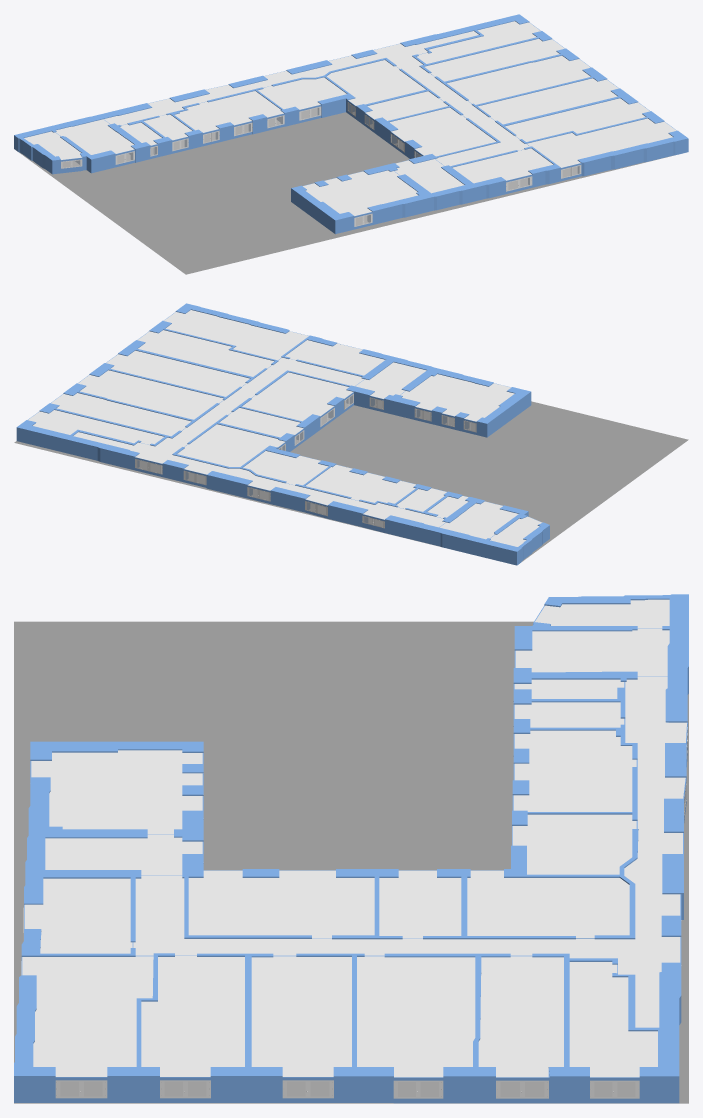
Rendered from 5thfloor.obj.
3 views of the same model, one above another, from view 1: azimuth 30°, elevation 25°; view 2: azimuth 150°, elevation 25°; view 3: azimuth 270°, elevation 25° (orthographic). The views are drawn at different scales.
Visible parts, largest first — view 1: ground_1, room_421_2503, room_432_2525, room_428_2517, room_452_2547, room_427_2515, room_431_2523, room_430_2521, room_424_2509, room_423_2507, room_420_2501, room_422_2505 (+22 smaller); view 2: ground_1, room_421_2503, room_432_2525, room_428_2517, room_452_2547, room_427_2515, room_431_2523, room_430_2521, room_424_2509, room_423_2507, room_420_2501, room_422_2505 (+30 smaller); view 3: ground_1, room_421_2503, room_432_2525, room_428_2517, room_452_2547, room_427_2515, room_431_2523, room_430_2521, room_423_2507, room_424_2509, room_420_2501, room_422_2505 (+38 smaller).
Part boxes in pixels (x1,y1,x2,y2): ground_1: [19, 112, 674, 274]; room_421_2503: [104, 31, 529, 166]; room_432_2525: [447, 56, 590, 104]; room_428_2517: [527, 118, 676, 167]; room_452_2547: [303, 170, 417, 215]; room_427_2515: [389, 107, 496, 156]; room_431_2523: [478, 78, 618, 124]; room_430_2521: [505, 98, 649, 141]; room_424_2509: [327, 60, 425, 105]; room_423_2507: [424, 39, 564, 81]; room_420_2501: [174, 91, 283, 132]; room_422_2505: [417, 21, 540, 63]; ground_1: [14, 401, 688, 561]; room_421_2503: [73, 357, 445, 527]; room_432_2525: [78, 370, 223, 419]; room_428_2517: [164, 310, 308, 360]; room_452_2547: [400, 374, 514, 421]; room_427_2515: [242, 372, 352, 421]; room_431_2523: [106, 350, 249, 396]; room_430_2521: [137, 330, 273, 376]; room_424_2509: [177, 424, 285, 466]; room_423_2507: [51, 393, 191, 436]; room_420_2501: [306, 464, 415, 503]; room_422_2505: [28, 410, 164, 444]; ground_1: [14, 621, 688, 1103]; room_421_2503: [133, 676, 686, 1027]; room_432_2525: [357, 956, 475, 1077]; room_428_2517: [22, 956, 153, 1076]; room_452_2547: [31, 750, 202, 833]; room_427_2515: [188, 870, 374, 937]; room_431_2523: [251, 956, 351, 1076]; room_430_2521: [141, 955, 244, 1076]; room_423_2507: [478, 956, 563, 1077]; room_424_2509: [467, 870, 629, 937]; room_420_2501: [513, 730, 636, 811]; room_422_2505: [569, 962, 657, 1077].
Size of the model in its own units: 9996 by 262 by 5916.
